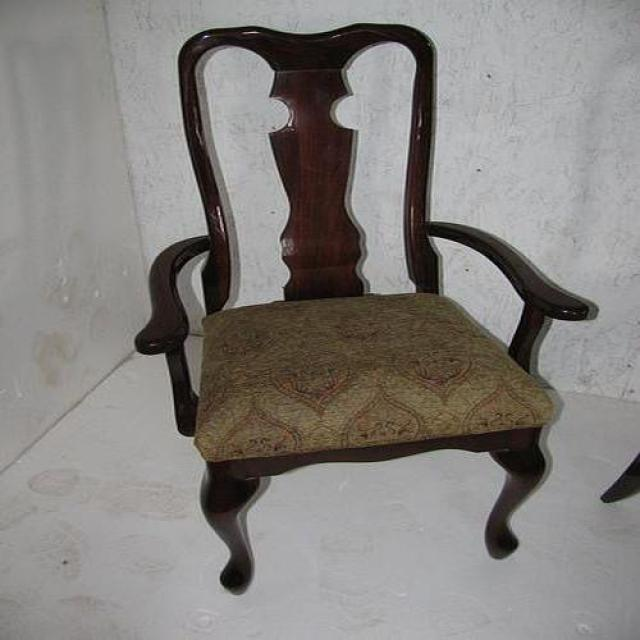chair: (134, 23, 599, 598)
